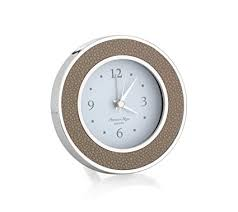alarm_clock: (49, 34, 187, 172), (49, 34, 187, 170), (49, 34, 187, 169), (49, 37, 187, 170), (56, 37, 187, 170)
